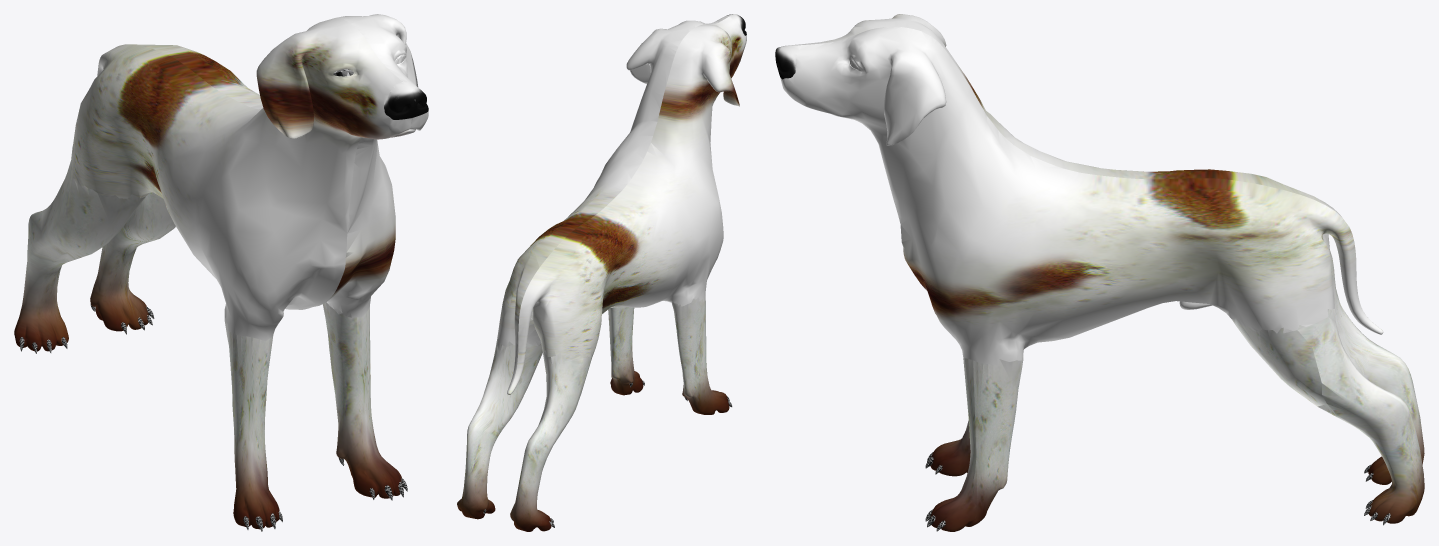
File: dog.obj
3 views of the same model, side by side, from view 1: azimuth 30°, elevation 25°; view 2: azimuth 150°, elevation 25°; view 3: azimuth 270°, elevation 25° (orthographic). The views are drawn at different scales.
Parts seen in each view (by area): view 1: Dog, Paws; view 2: Dog; view 3: Dog.
Boxes of the visible parts, left/top/right/bottom form: Dog: left=14, top=14, right=428, bottom=529; Paws: left=19, top=304, right=407, bottom=531; Dog: left=457, top=14, right=746, bottom=531; Dog: left=775, top=14, right=1424, bottom=531.
Size of the model in its own units: 0.1911 by 0.5563 by 0.6975.
9 materials, 9 textured.
